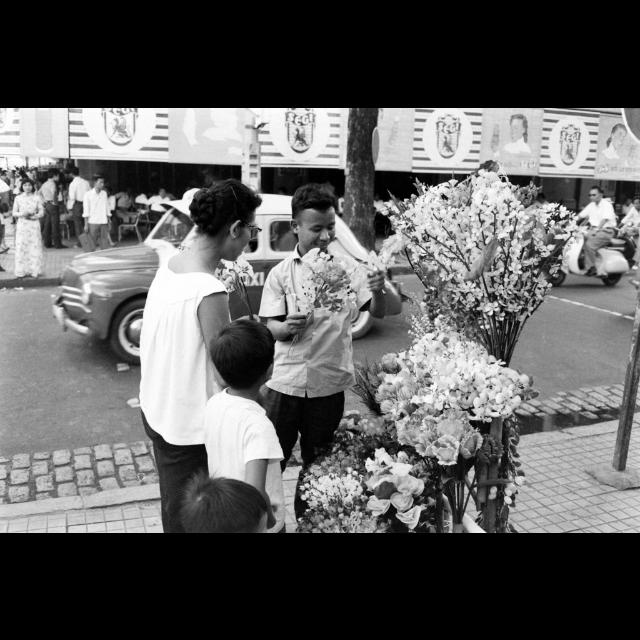Flower: (292, 152, 590, 532), (365, 454, 435, 506), (214, 253, 256, 290)
